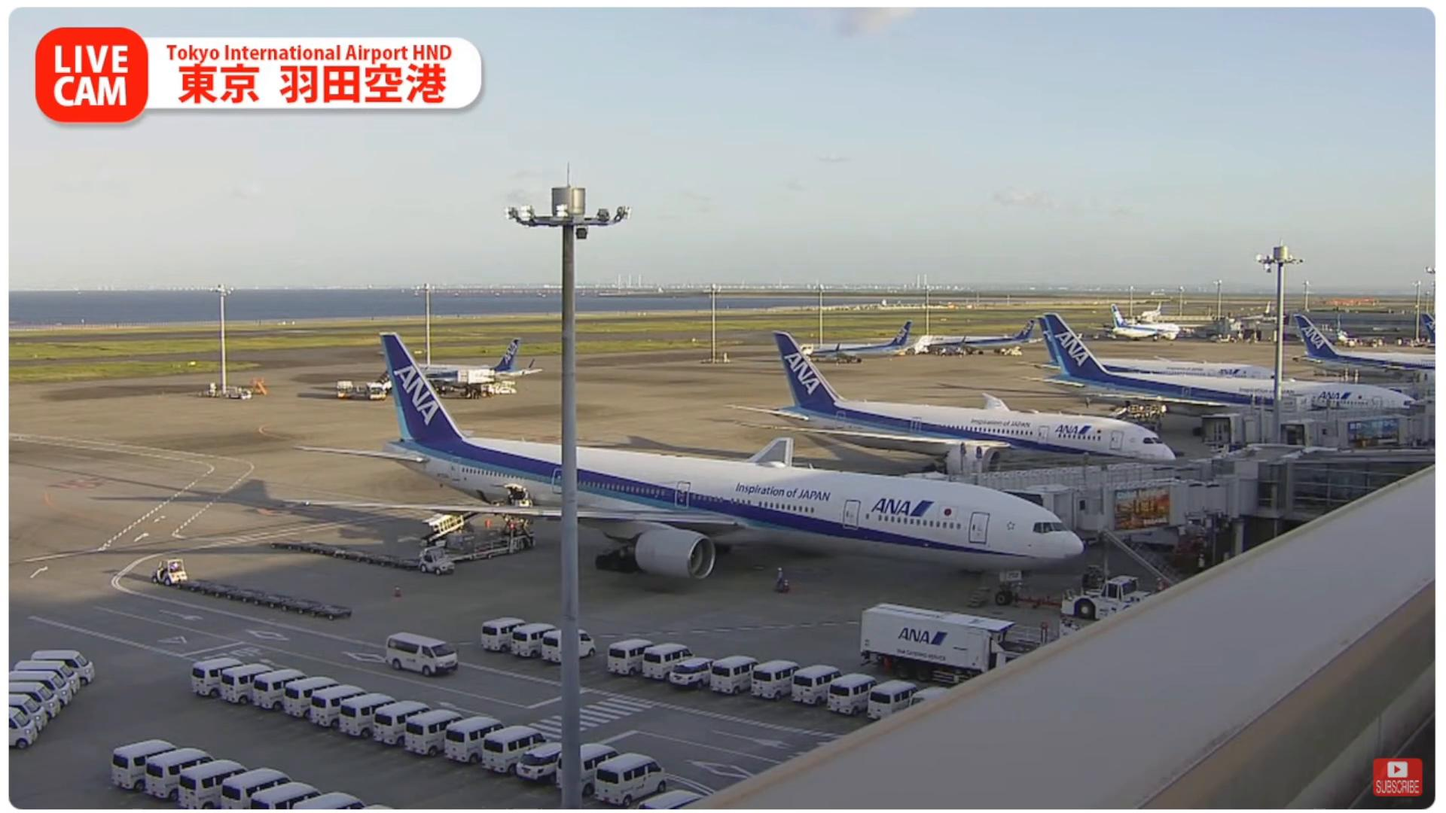APS: (1058, 576, 1150, 620)
Aerobridge: (990, 474, 1217, 523), (903, 458, 1204, 486)
Airplane: (290, 334, 1076, 584)
Catering: (859, 602, 1084, 686)
Dolly: (186, 578, 356, 622), (271, 537, 426, 570)
JCPL: (448, 509, 534, 562)
Skyloader: (424, 510, 487, 546)
Tractor: (149, 556, 187, 589), (417, 547, 453, 576)
Window: (1253, 443, 1435, 520)
